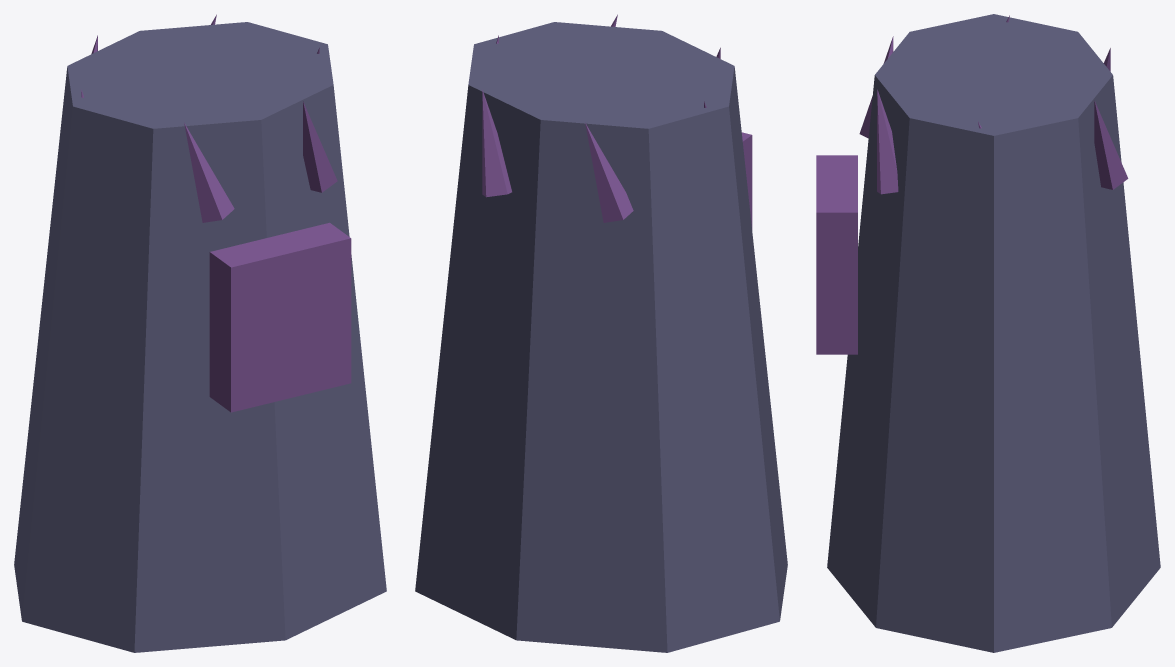
Rendered from hostile_torso_skitter.glb.
3 renders of one model, left to right at view 1: azimuth 30°, elevation 25°; view 2: azimuth 150°, elevation 25°; view 3: azimuth 270°, elevation 25°, orthographic. The views are drawn at different scales.
Visible parts, largest first — view 1: hostile_torso_skitter; view 2: hostile_torso_skitter; view 3: hostile_torso_skitter.
Boxes of the visible parts, x1,y1,x2,y2 form: hostile_torso_skitter: (14,14,386,652); hostile_torso_skitter: (415,14,787,652); hostile_torso_skitter: (816,14,1160,652).
Size of the model in its own units: 0.5564 by 0.7597 by 0.4746.
